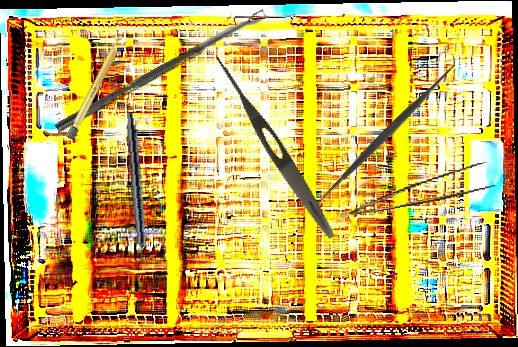Dressing Forceps: (207, 52, 341, 243)
Handpiece: (122, 112, 150, 272)
Scalpel Handle: (65, 31, 127, 142)
Spatula Surgical: (303, 53, 468, 218)
Surgical Spoon: (54, 8, 268, 135)
Tissue Forceps: (335, 160, 497, 219)
